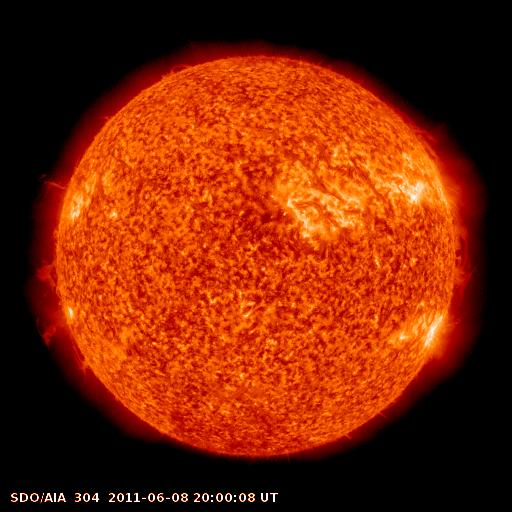prominence: (383, 94, 450, 171), (439, 202, 482, 316), (28, 314, 93, 379), (24, 224, 75, 306), (37, 169, 72, 205), (160, 55, 193, 85)
